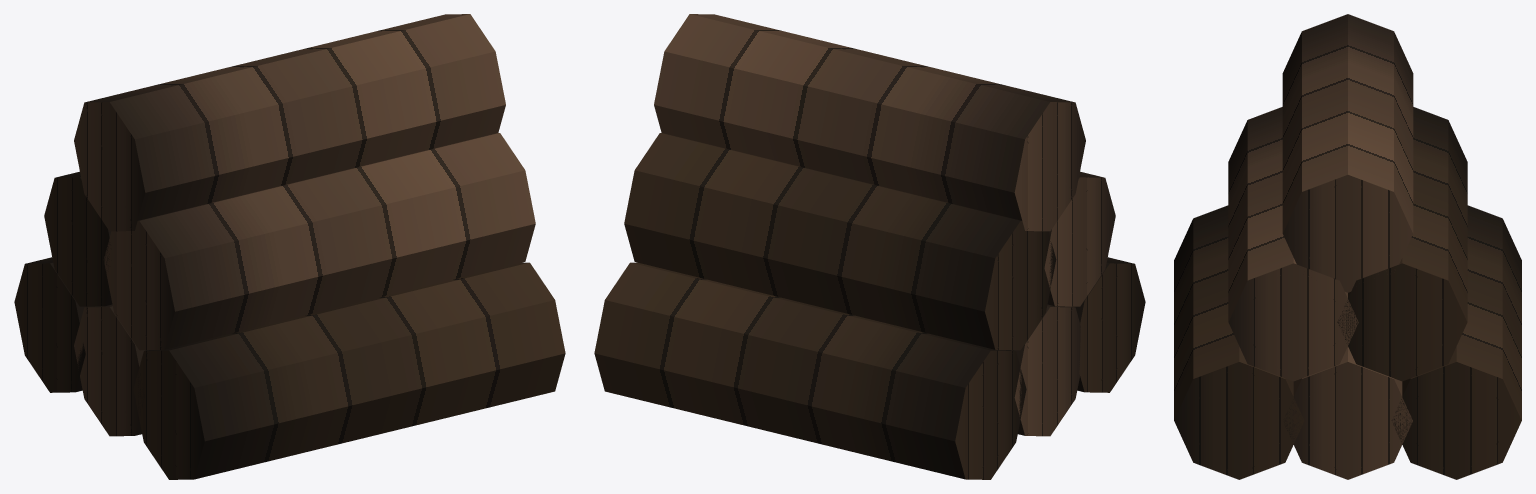
File: wood_pile.glb
The picture shows the model from 3 angles, left to right: view 1: azimuth 30°, elevation 25°; view 2: azimuth 150°, elevation 25°; view 3: azimuth 270°, elevation 25°; orthographic projection. The views are drawn at different scales.
Parts seen in each view (by area): view 1: wood_pile; view 2: wood_pile; view 3: wood_pile.
Boxes of the visible parts, left/top/right/bottom form: wood_pile: left=14, top=14, right=565, bottom=479; wood_pile: left=594, top=14, right=1145, bottom=479; wood_pile: left=1174, top=14, right=1521, bottom=479.
Size of the model in its own units: 0.7 by 0.62 by 0.64.
1 material, 1 textured.
